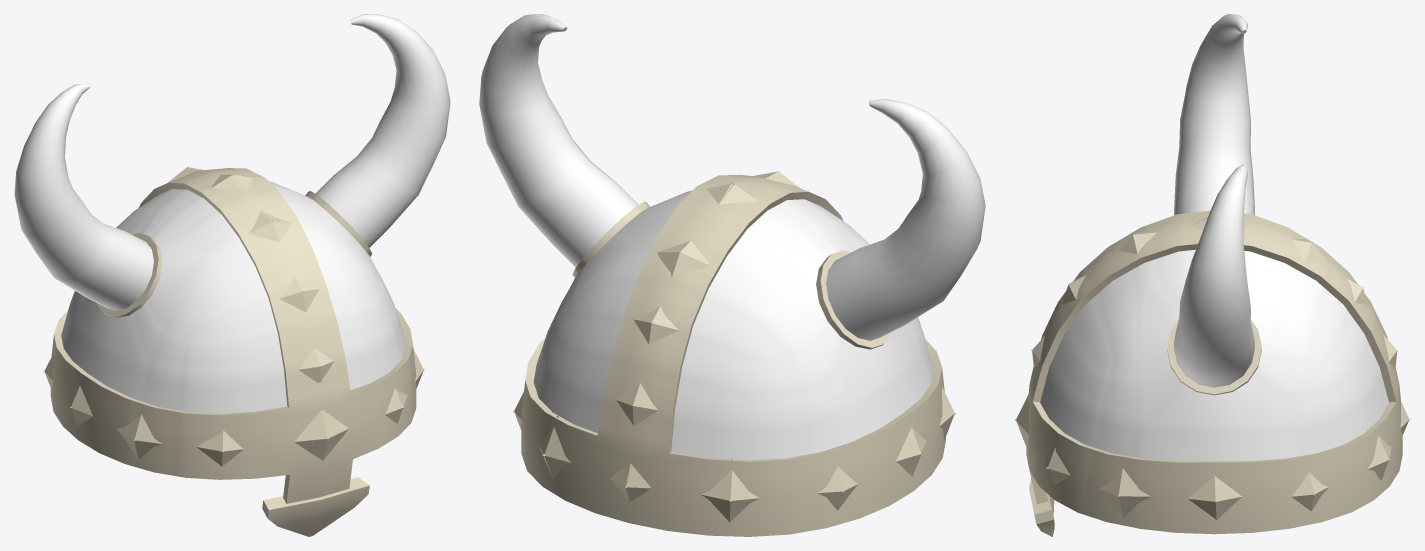
Rendered from Casco Vikingo.gltf.
3 views of the same model, side by side, from view 1: azimuth 30°, elevation 25°; view 2: azimuth 150°, elevation 25°; view 3: azimuth 270°, elevation 25° (orthographic). The views are drawn at different scales.
Parts seen in each view (by area): view 1: Viking Helmet; view 2: Viking Helmet; view 3: Viking Helmet.
Boxes of the visible parts, box(x1,y1,x2,y2) form: Viking Helmet: box(14, 14, 450, 536); Viking Helmet: box(479, 14, 985, 536); Viking Helmet: box(1014, 14, 1410, 536).
Bounding box in the file's own units: 6.07 × 5.7 × 4.63.
